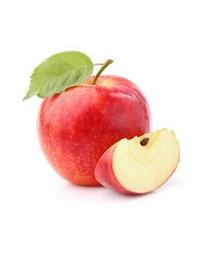apple: (34, 56, 153, 187), (95, 129, 179, 196)
